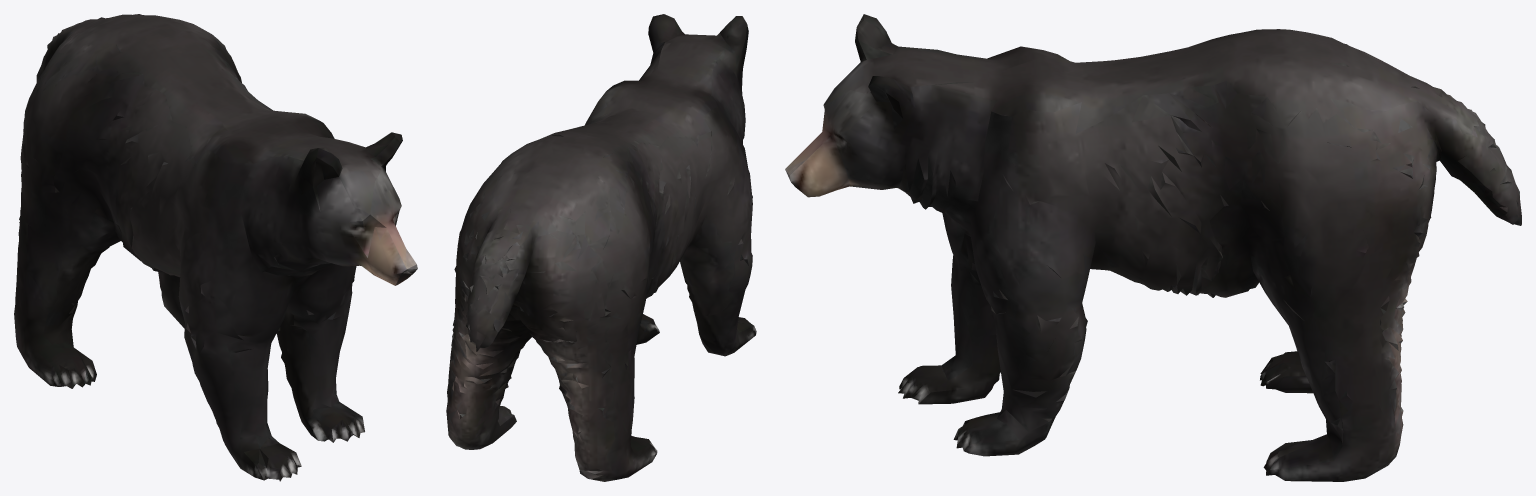
The model's file is bear-black.phone.glb.
The picture shows the model from 3 angles, left to right: view 1: azimuth 30°, elevation 25°; view 2: azimuth 150°, elevation 25°; view 3: azimuth 270°, elevation 25°; orthographic projection. The views are drawn at different scales.
Parts seen in each view (by area): view 1: bear-black; view 2: bear-black; view 3: bear-black.
Boxes of the visible parts, box(x1,y1,x2,y2) form: bear-black: box(14, 14, 417, 481); bear-black: box(446, 14, 756, 481); bear-black: box(785, 14, 1521, 481).
Bounding box in the file's own units: 0.7845 × 1.3 × 2.15.
Materials: 1 (1 with a texture image).
